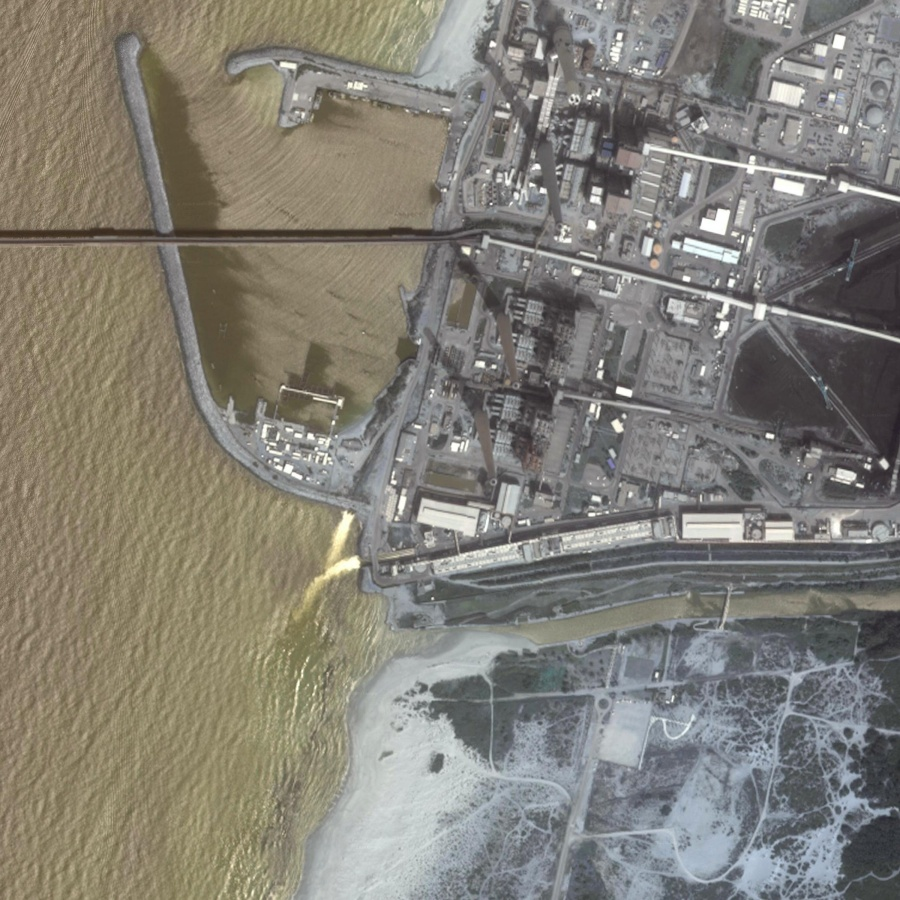PowerPlant: (390, 72, 651, 493)
